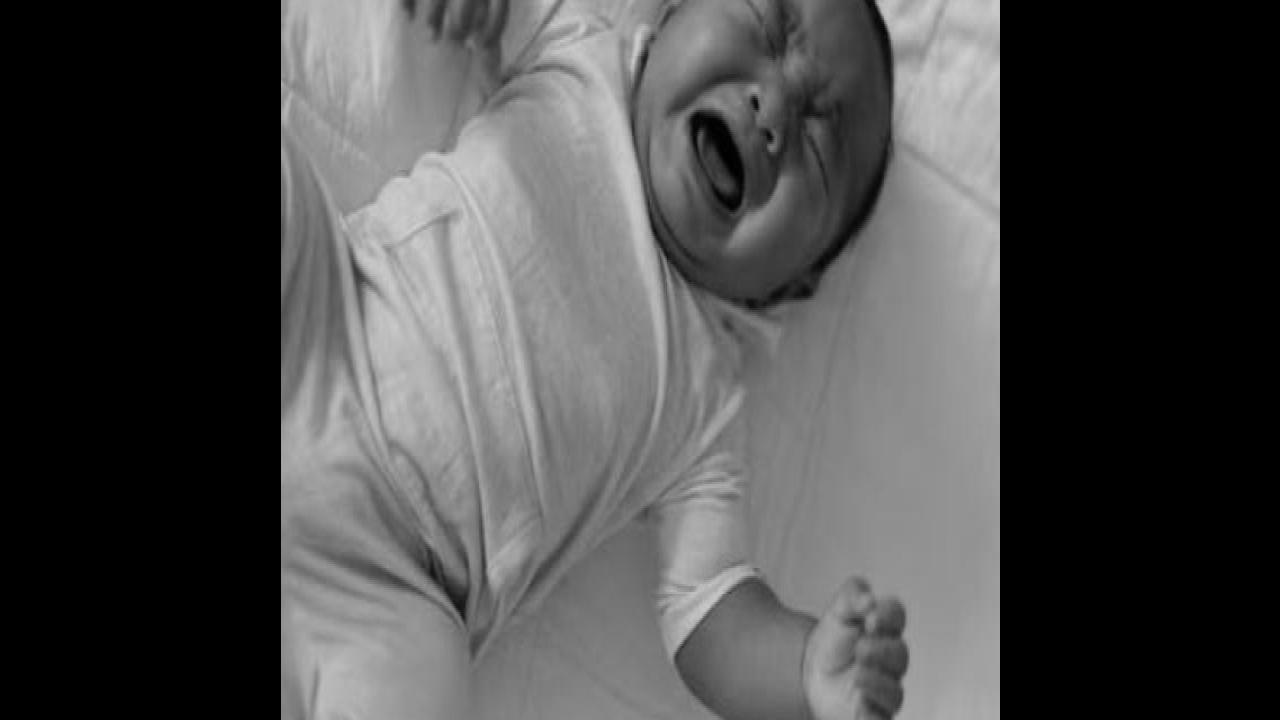hand: (801, 580, 907, 720), (388, 0, 514, 97)
